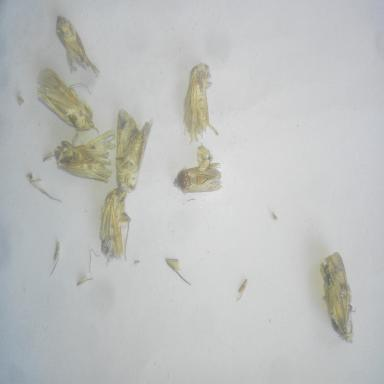abw: (33, 63, 101, 138), (112, 101, 157, 197), (316, 247, 358, 347), (53, 124, 117, 185), (180, 60, 220, 150), (53, 11, 101, 80), (95, 182, 133, 267), (172, 154, 226, 204)
